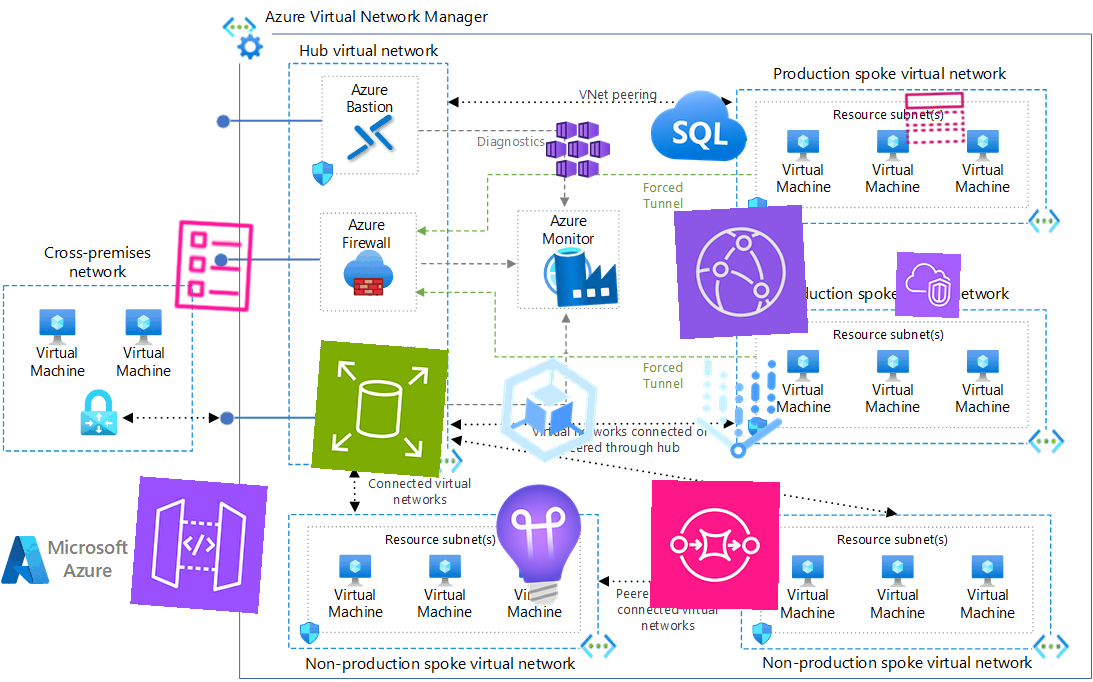aws_amazon_api_gateway: (130, 476, 268, 614)
aws_amazon_cloudfront: (673, 204, 809, 340)
aws_amazon_elastic_block_store: (311, 340, 449, 478)
aws_amazon_simple_queue_service: (650, 480, 780, 610)
aws_amazon_virtual_private_cloud: (894, 251, 962, 319)
aws_cloudformation_template: (162, 215, 264, 317)
aws_simple_notification_service_topic: (902, 85, 968, 151)
azure_application_insights: (471, 476, 609, 614)
azure_data_factories: (552, 241, 620, 309)
azure_kubernetes_services: (545, 116, 611, 182)
azure_sql: (649, 77, 749, 177)
gcp_google_kubernetes_engine: (479, 340, 619, 480)
gcp_vertex_ai: (673, 343, 805, 475)
